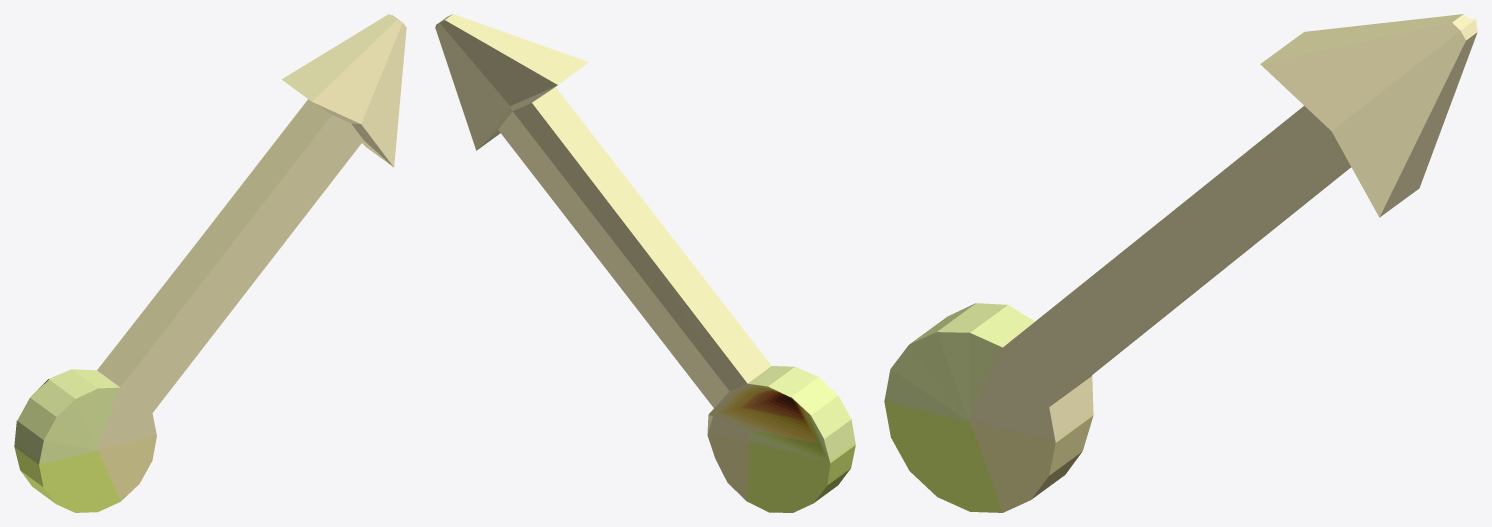
Rendered from Minutero.fbx.
The picture shows the model from 3 angles, left to right: view 1: azimuth 30°, elevation 25°; view 2: azimuth 150°, elevation 25°; view 3: azimuth 330°, elevation 25°; orthographic projection. The views are drawn at different scales.
Visible parts, largest first — view 1: Minutero; view 2: Minutero; view 3: Minutero.
Boxes of the visible parts, left/top/right/bottom form: Minutero: left=14, top=14, right=406, bottom=512; Minutero: left=435, top=14, right=855, bottom=512; Minutero: left=884, top=14, right=1477, bottom=512.
Bounding box in the file's own units: 48.03 × 48.03 × 7.92.
